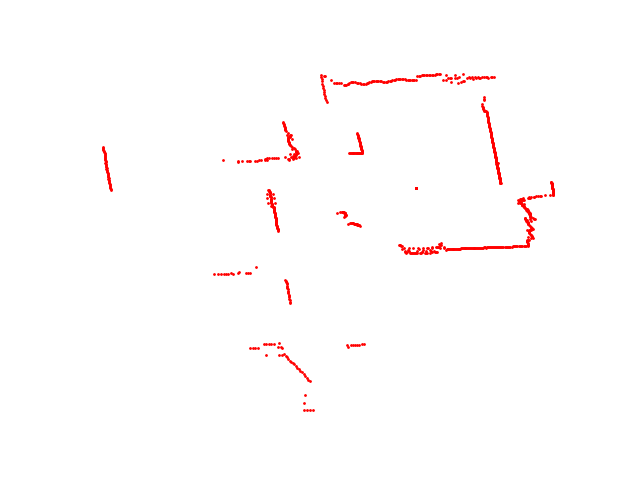person: (334, 210, 363, 230)
